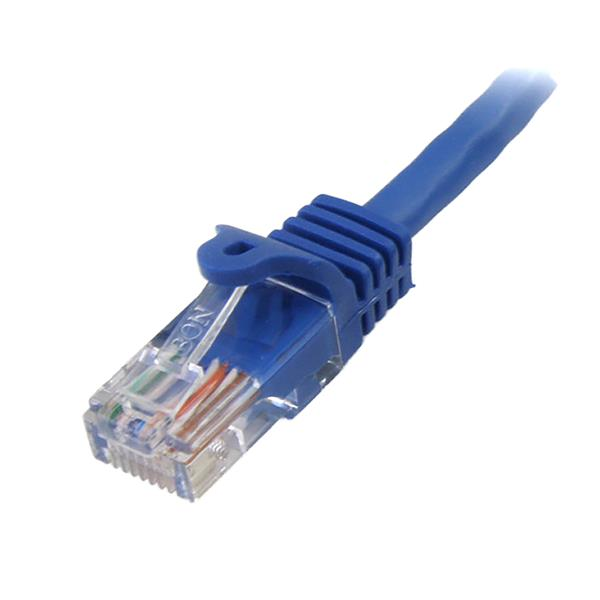Nonrec_Tangler: (50, 42, 571, 537)
